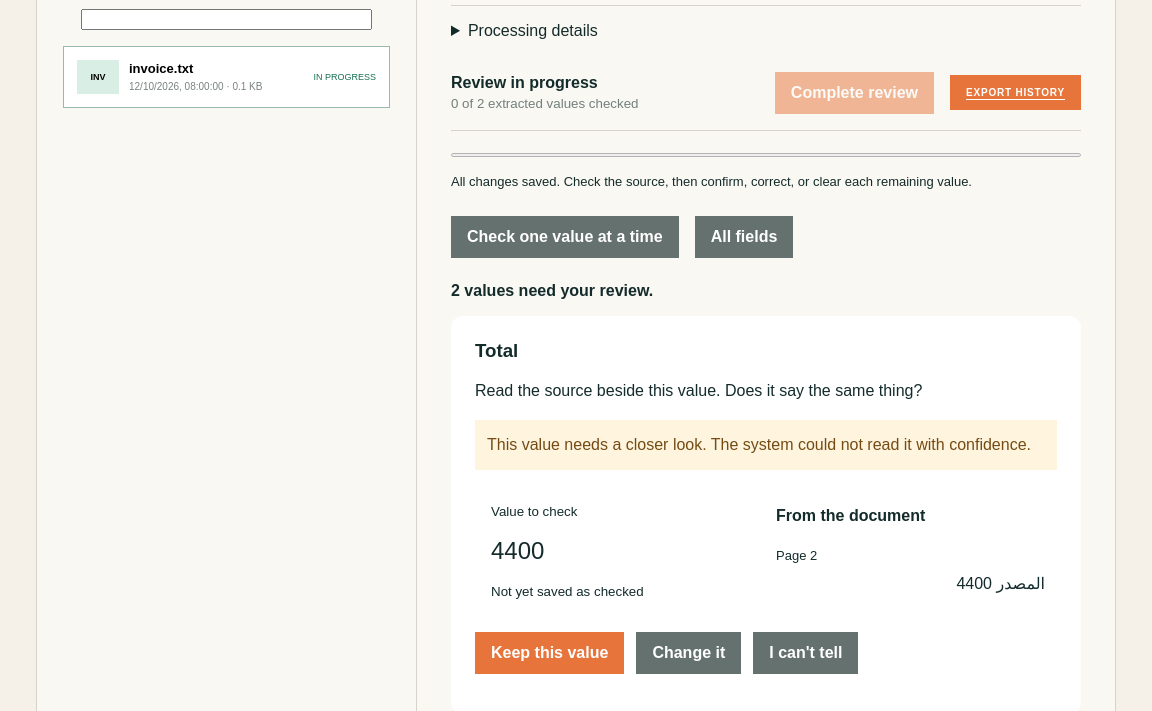
Test: low-effort value review › keeps exactly the displayed machine value then focuses the next unchecked value
(page scrolled)
Click the button "Keep this value" at (550, 653), box [475,632,624,674]
(page scrolled)
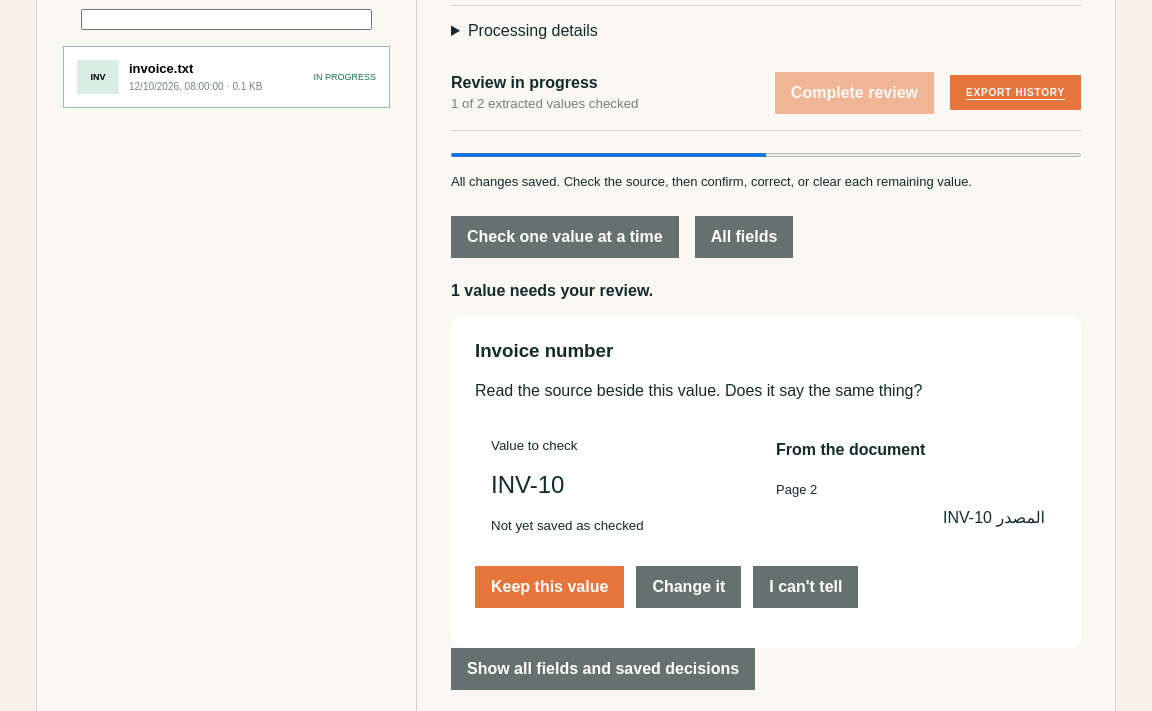
Check: the button "Complete review" is disabled, box [775,72,934,114]
Check: the text "1 value needs your review." is shown, box [451,282,653,299]
